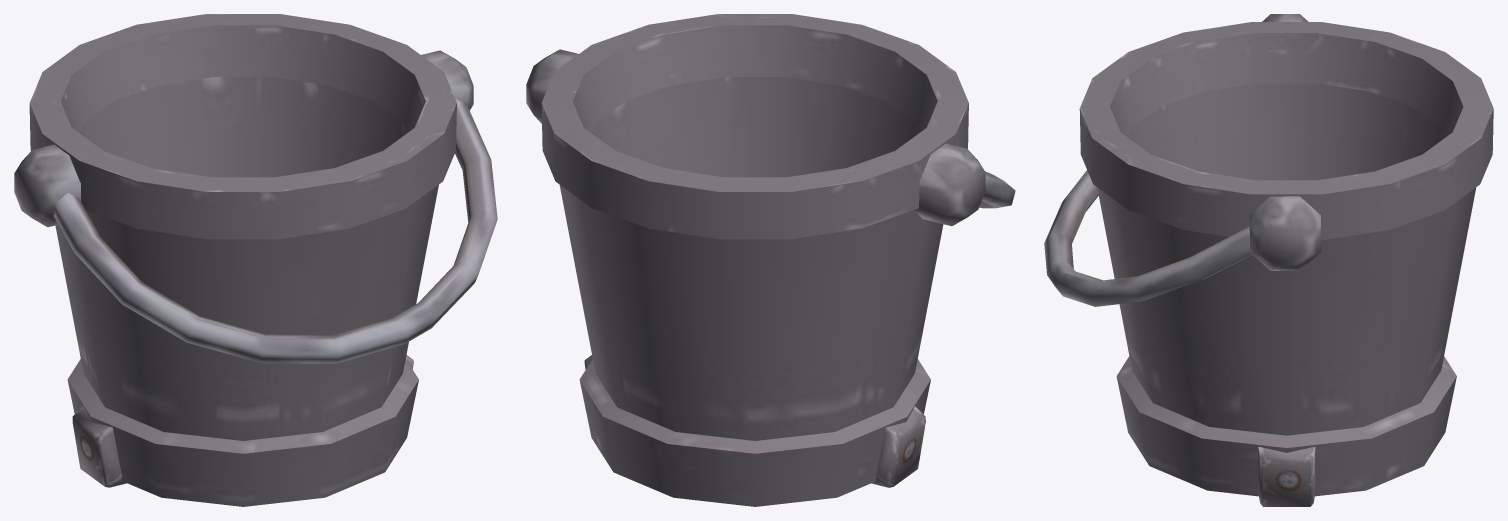
Rendered from prop-qp-bucketmetal.glb.
3 views of the same model, side by side, from view 1: azimuth 30°, elevation 25°; view 2: azimuth 150°, elevation 25°; view 3: azimuth 270°, elevation 25° (orthographic). The views are drawn at different scales.
Visible parts, largest first — view 1: BezierCurve_002; view 2: BezierCurve_002; view 3: BezierCurve_002.
Boxes of the visible parts, <box> form: BezierCurve_002: <box>14,14,497,506</box>; BezierCurve_002: <box>526,14,1015,506</box>; BezierCurve_002: <box>1044,14,1493,506</box>.
Bounding box in the file's own units: 0.4854 × 0.365 × 0.449.
Materials: 1 (1 with a texture image).
